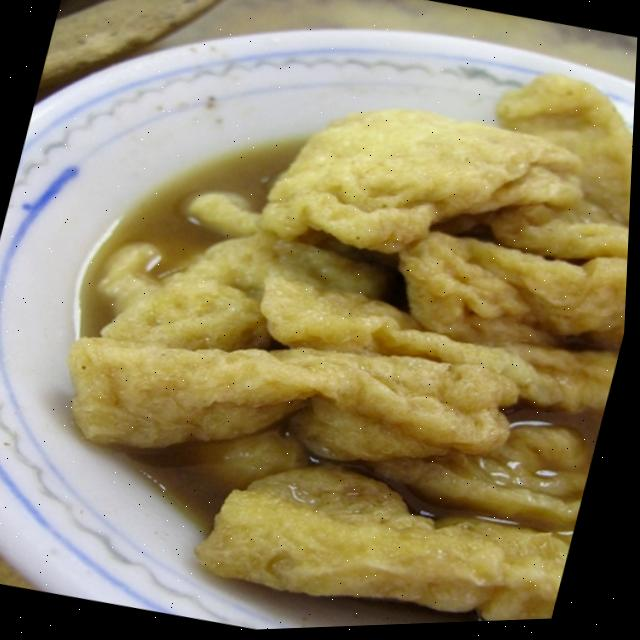汤锅炖物: (25, 0, 640, 639)
